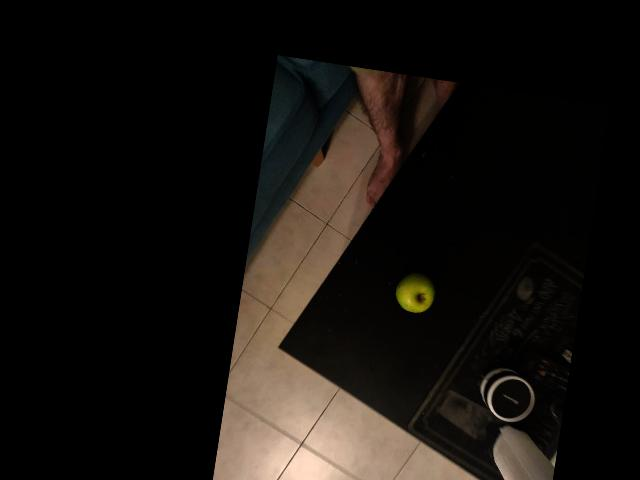apple: (313, 320, 365, 372)
